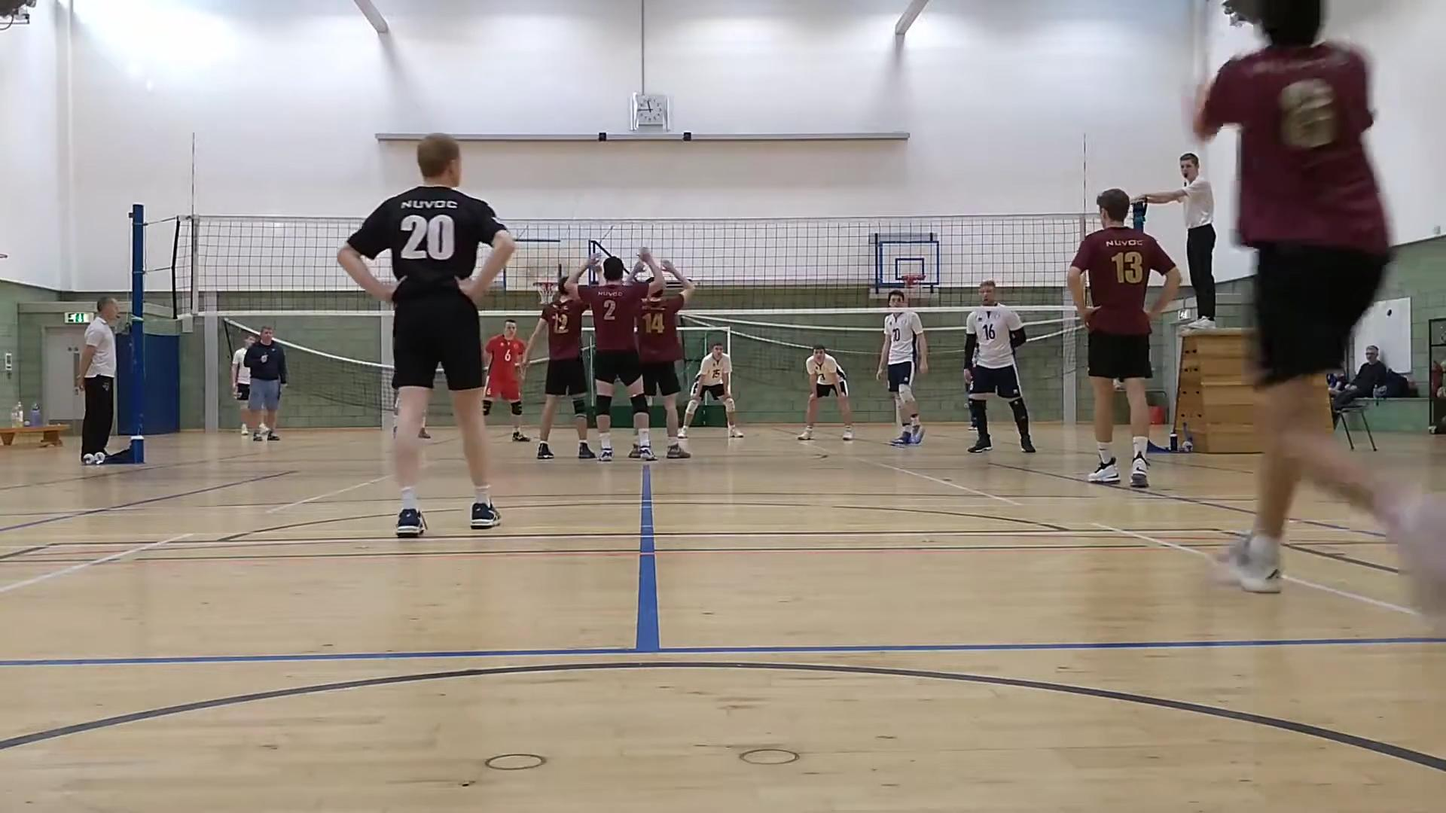battuta: (1179, 0, 1446, 622)
